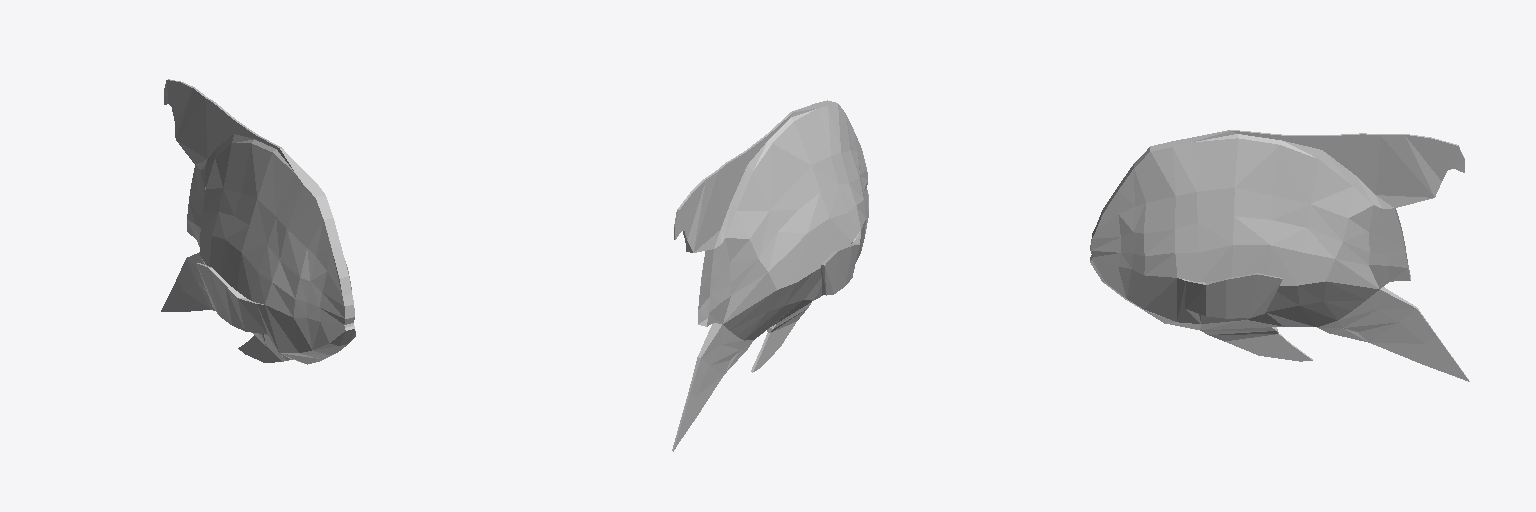
The model's file is cuerpo.obj.
3 renders of one model, left to right at view 1: azimuth 30°, elevation 25°; view 2: azimuth 150°, elevation 25°; view 3: azimuth 270°, elevation 25°, orthographic.
Parts seen in each view (by area): view 1: polySurface6 polySurface4 TropicalFish03; view 2: polySurface6 polySurface4 TropicalFish03; view 3: polySurface6 polySurface4 TropicalFish03.
Part boxes in pixels (x1,y1,x2,y2): polySurface6 polySurface4 TropicalFish03: (161,79,355,364); polySurface6 polySurface4 TropicalFish03: (672,100,868,451); polySurface6 polySurface4 TropicalFish03: (1090,130,1469,381).
Size of the model in its own units: 1.09 by 2.22 by 3.04.